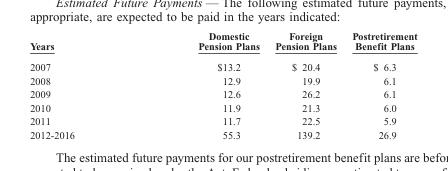table: (29, 29, 416, 140)
table column: (135, 29, 266, 140), (29, 29, 135, 140), (266, 29, 343, 140), (343, 29, 416, 140)
table column header: (29, 29, 416, 56)
table row: (29, 29, 416, 56), (29, 56, 416, 73), (29, 73, 416, 87), (29, 100, 416, 114), (29, 87, 416, 100), (29, 114, 416, 127), (29, 127, 416, 140)
